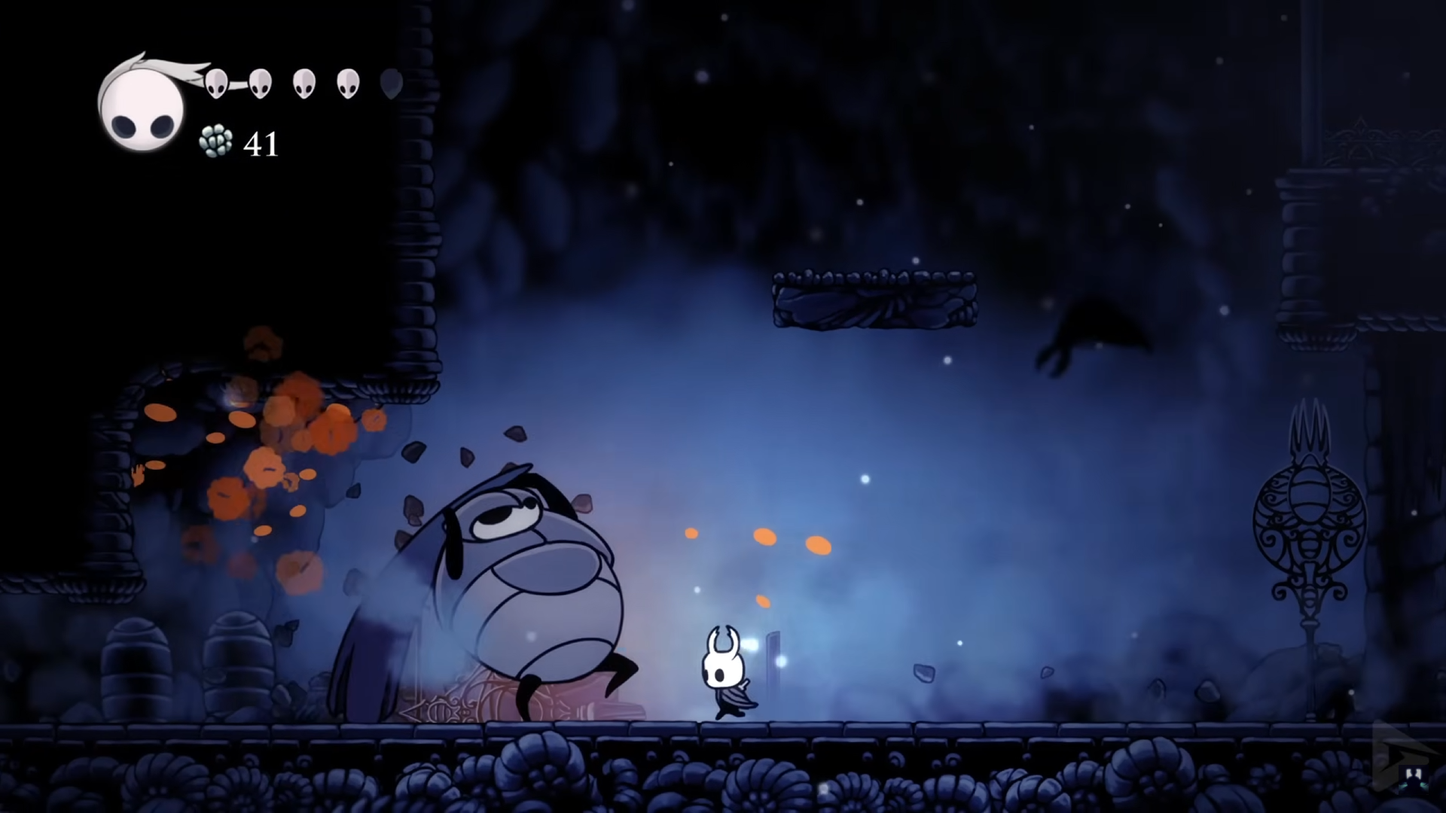HK: (697, 622, 761, 722)
